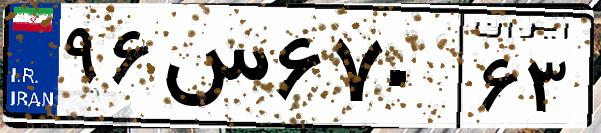0: (385, 28, 445, 110)
3: (525, 38, 570, 115)
6: (270, 28, 330, 110), (475, 38, 525, 113), (110, 28, 158, 98)
7: (330, 28, 385, 110)
9: (57, 26, 110, 100)
س: (158, 20, 270, 120)
